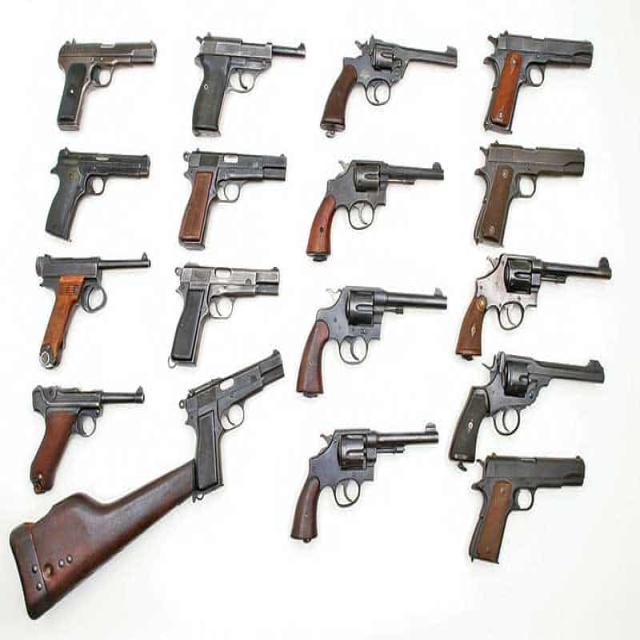HandGun: (450, 352, 606, 473), (291, 424, 439, 543), (178, 350, 286, 502), (456, 255, 611, 360), (297, 286, 448, 393), (306, 159, 446, 262), (320, 35, 458, 138), (35, 253, 150, 374), (468, 455, 586, 565), (30, 385, 146, 496), (474, 143, 585, 247), (170, 263, 279, 368), (483, 32, 594, 135), (193, 36, 306, 131), (179, 151, 287, 246), (45, 148, 151, 242), (57, 39, 158, 132)
